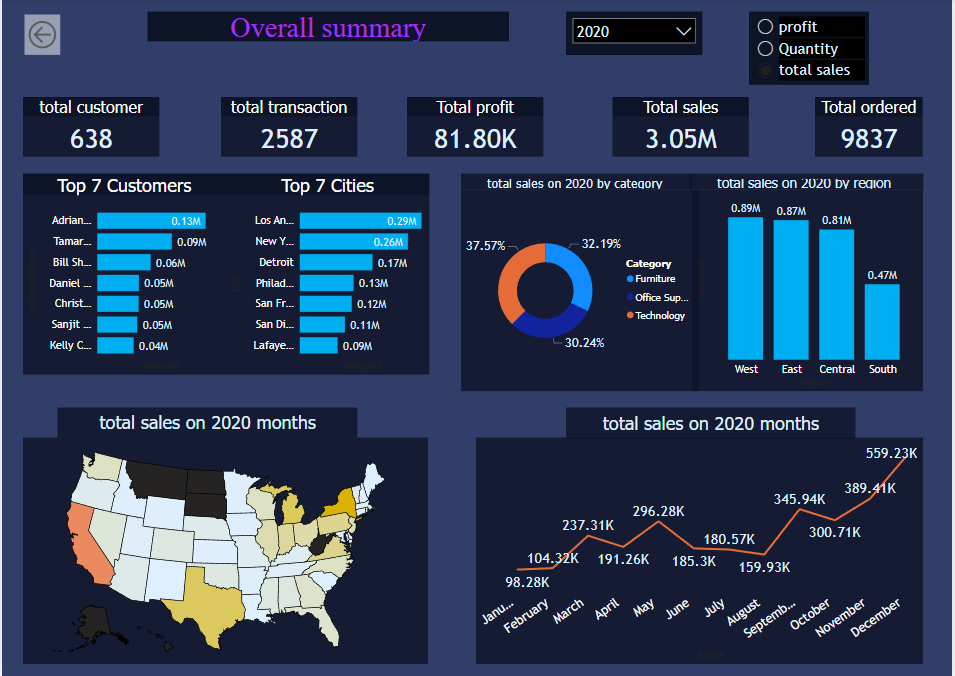

This screenshot's page, from the dashboard's own definition file:
{"tool":"powerbi","page":{"name":"overall summary","canvas":[1400,1000],"ordinal":0},"visuals":[{"type":"columnChart","fields":{"Category":["Orders.Region"],"Y":["metr.selected"]},"box":[1015.5,282.6,340,295.8],"z":0},{"type":"card","title":"Total profit","fields":{"Values":["Orders.Profit"]},"box":[596,145.7,200.9,88.3],"z":1000},{"type":"card","title":"total customer","fields":{"Values":["Orders.Customer ID"]},"box":[30.9,145.7,200.9,88.3],"z":2000},{"type":"card","title":"total transaction","fields":{"Values":["Orders.Customer ID"]},"box":[322.3,145.7,200.9,88.3],"z":3000},{"type":"card","title":"Total sales","fields":{"Values":["calculated_fields.ttal_sales"]},"box":[898.5,145.7,200.9,88.3],"z":4000},{"type":"donutChart","fields":{"Series":["Orders.Category"],"Y":["metr.selected"]},"box":[675.5,282.6,351,295.8],"z":5000},{"type":"textbox","title":"Overall summary","box":[214.1,19.9,532,44.2],"z":6000},{"type":"card","title":"Total ordered","fields":{"Values":["Orders.Quantity"]},"box":[1196.5,145.7,158.9,88.3],"z":7000},{"type":"slicer","title":"select year","fields":{"Values":["Orders.order_date.Variation.Date Hierarchy.Year"]},"box":[830,19.9,200.9,64],"z":8000},{"type":"shapeMap","title":"total_sales, Profit and Quantity by State","fields":{"Category":["Orders.State"],"Value":["metr.selected"]},"box":[30.9,646.8,596,333.3],"z":9000},{"type":"actionButton","box":[33.1,24.3,53,59.6],"z":10000},{"type":"barChart","title":"Top  7 Customers","fields":{"Y":["metr.selected"],"Category":["Orders.Customer Name"]},"box":[30.9,258.3,298,295.8],"z":11000},{"type":"barChart","title":"Top 7 Cities","fields":{"Category":["Orders.City"],"Y":["metr.selected"]},"box":[328.9,258.3,300.2,295.8],"z":12000},{"type":"slicer","fields":{"Values":["metr.me"]},"box":[1099.3,19.9,176.6,108.2],"z":13000},{"type":"lineChart","title":"metr[me] by Month","fields":{"Y":["metr.selected"],"Category":["Orders.order_date.Variation.Date Hierarchy.Month"]},"box":[697.6,646.8,657.8,333.3],"z":14000},{"type":"card","fields":{"Values":["Orders.tile"]},"box":[830,602.6,426,46.4],"z":15000},{"type":"card","fields":{"Values":["Orders.tile"]},"box":[81.7,602.6,441.5,44.2],"z":16000},{"type":"card","fields":{"Values":["calculated_fields.tile2"]},"box":[1011,258.3,344.4,24.3],"z":17000},{"type":"card","fields":{"Values":["calculated_fields.tile3"]},"box":[675.5,258.3,340,24.3],"z":18000}]}

Visuals, with their boxes in screenshot pixels (x1, y1, x2, y2), scaled from the page's 1400x1000 canvas onto the 955x676 screenshot:
columnChart - Orders.Region x metr.selected: detection(693, 191, 925, 391)
"Total profit" card: detection(407, 98, 544, 158)
"total customer" card: detection(21, 98, 158, 158)
"total transaction" card: detection(220, 98, 357, 158)
"Total sales" card: detection(613, 98, 750, 158)
donutChart - Orders.Category x metr.selected: detection(461, 191, 700, 391)
"Overall summary" textbox: detection(146, 13, 509, 43)
"Total ordered" card: detection(816, 98, 925, 158)
"select year" slicer: detection(566, 13, 703, 57)
"total_sales, Profit and Quantity by State" shapeMap: detection(21, 437, 428, 663)
actionButton: detection(23, 16, 59, 57)
"Top  7 Customers" barChart: detection(21, 175, 224, 375)
"Top 7 Cities" barChart: detection(224, 175, 429, 375)
slicer - metr.me: detection(750, 13, 870, 87)
"metr[me] by Month" lineChart: detection(476, 437, 925, 663)
card - Orders.tile: detection(566, 407, 857, 439)
card - Orders.tile: detection(56, 407, 357, 437)
card - calculated_fields.tile2: detection(690, 175, 925, 191)
card - calculated_fields.tile3: detection(461, 175, 693, 191)
